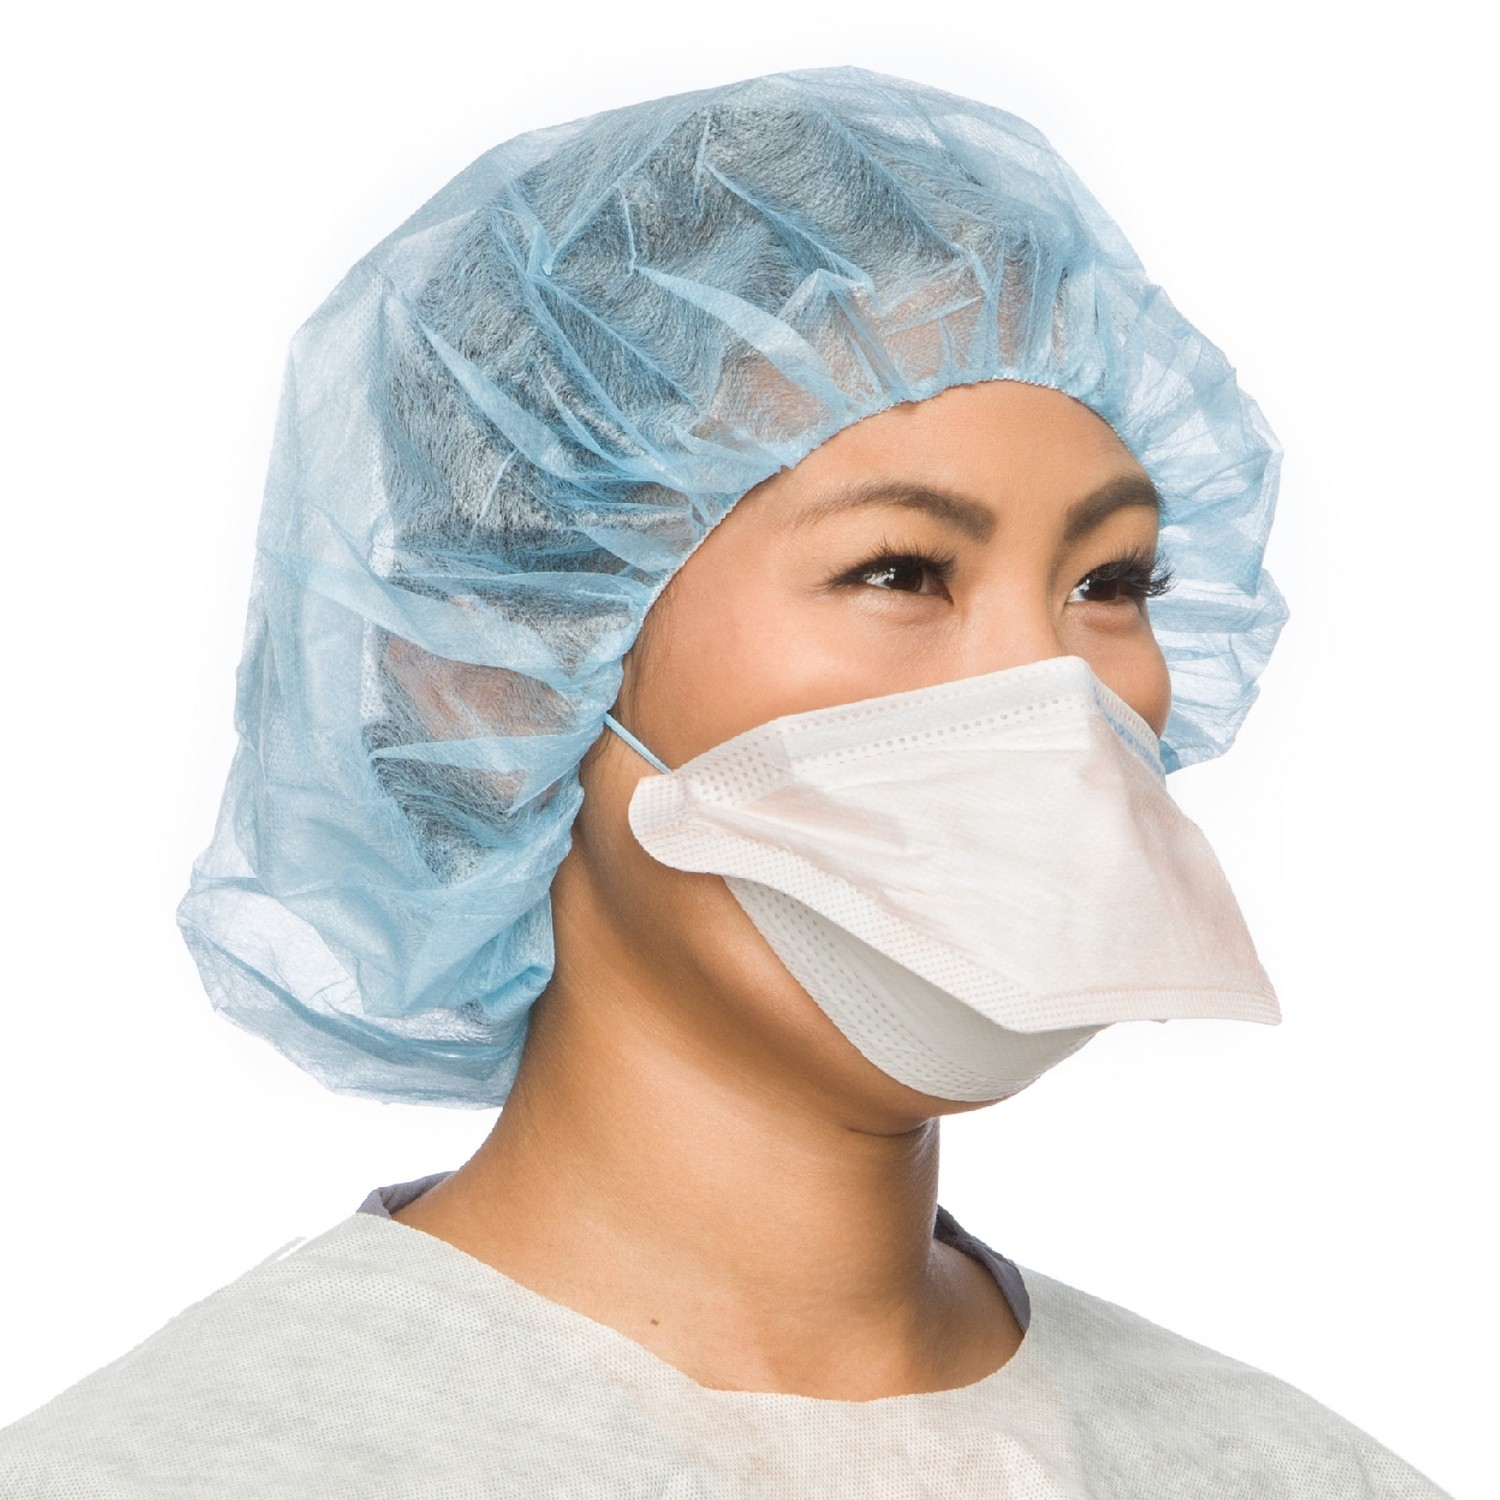Mask: (602, 341, 1282, 1125)
